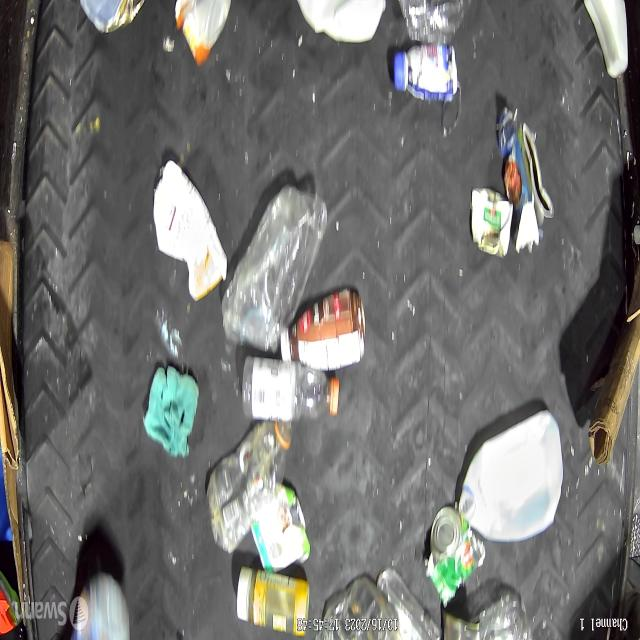can: (497, 108, 554, 227), (430, 507, 485, 588), (471, 189, 517, 260)
milk_jug: (461, 407, 562, 541), (296, 0, 386, 43)
plastic_bottle: (222, 184, 328, 354), (209, 427, 285, 552), (240, 356, 342, 422), (399, 0, 472, 45)
